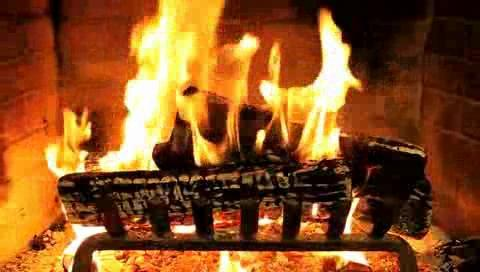fire: (113, 3, 354, 181)
